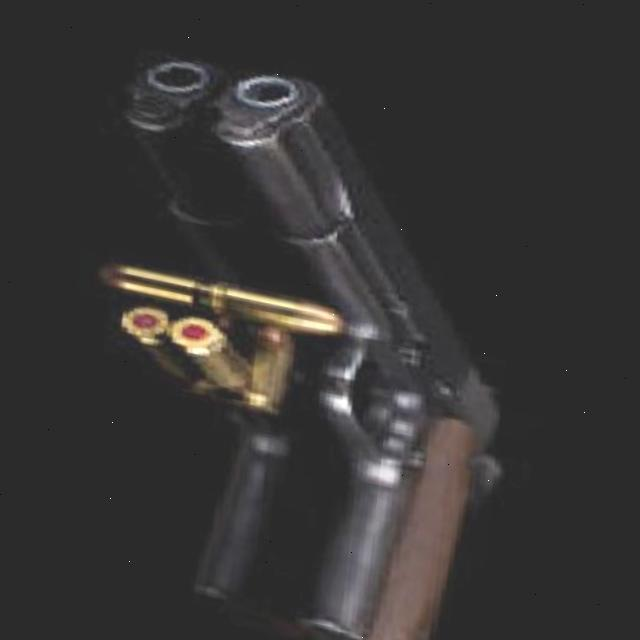gun: (125, 56, 565, 640)
